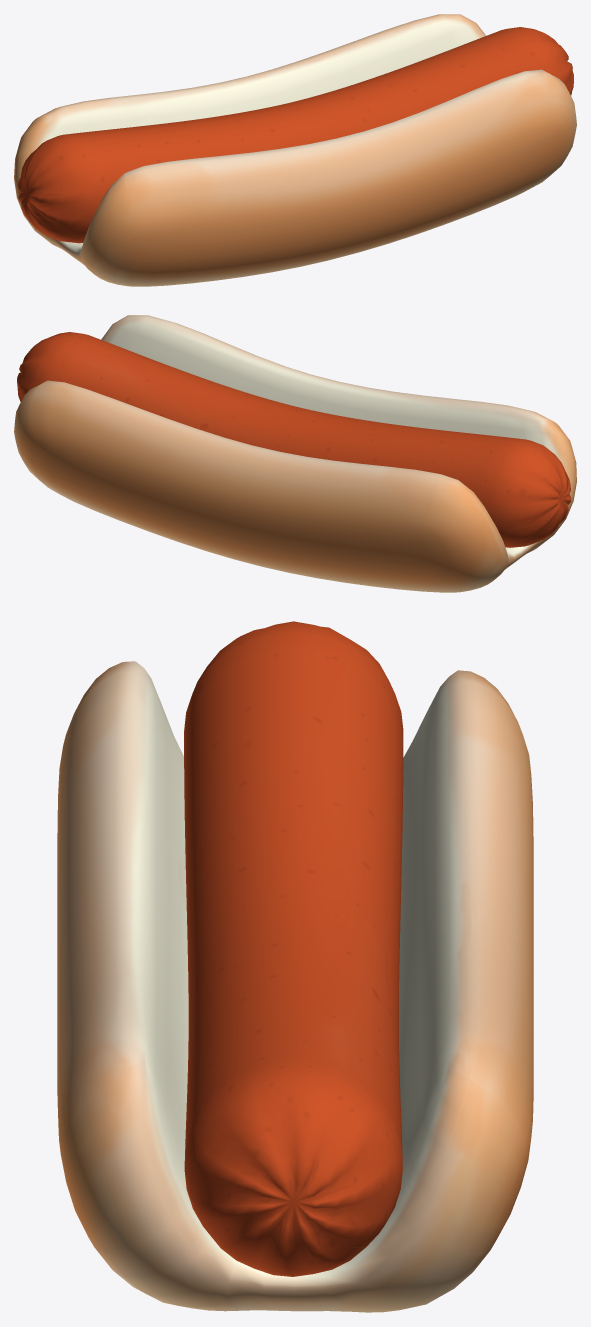
File: hotdog.fbx
The picture shows the model from 3 angles, top to bottom: view 1: azimuth 30°, elevation 25°; view 2: azimuth 150°, elevation 25°; view 3: azimuth 270°, elevation 25°; orthographic projection. The views are drawn at different scales.
Visible parts, largest first — view 1: Cube.028, Hotdog.029; view 2: Cube.028, Hotdog.029; view 3: Cube.028, Hotdog.029.
Boxes of the visible parts, x1=… form: Cube.028: x1=14, y1=14, x2=576, y2=286; Hotdog.029: x1=17, y1=27, x2=573, y2=243; Cube.028: x1=14, y1=315, x2=576, y2=592; Hotdog.029: x1=17, y1=332, x2=571, y2=547; Cube.028: x1=57, y1=661, x2=533, y2=1312; Hotdog.029: x1=184, y1=621, x2=403, y2=1276.
Size of the model in its own units: 1187 by 346 by 452.
